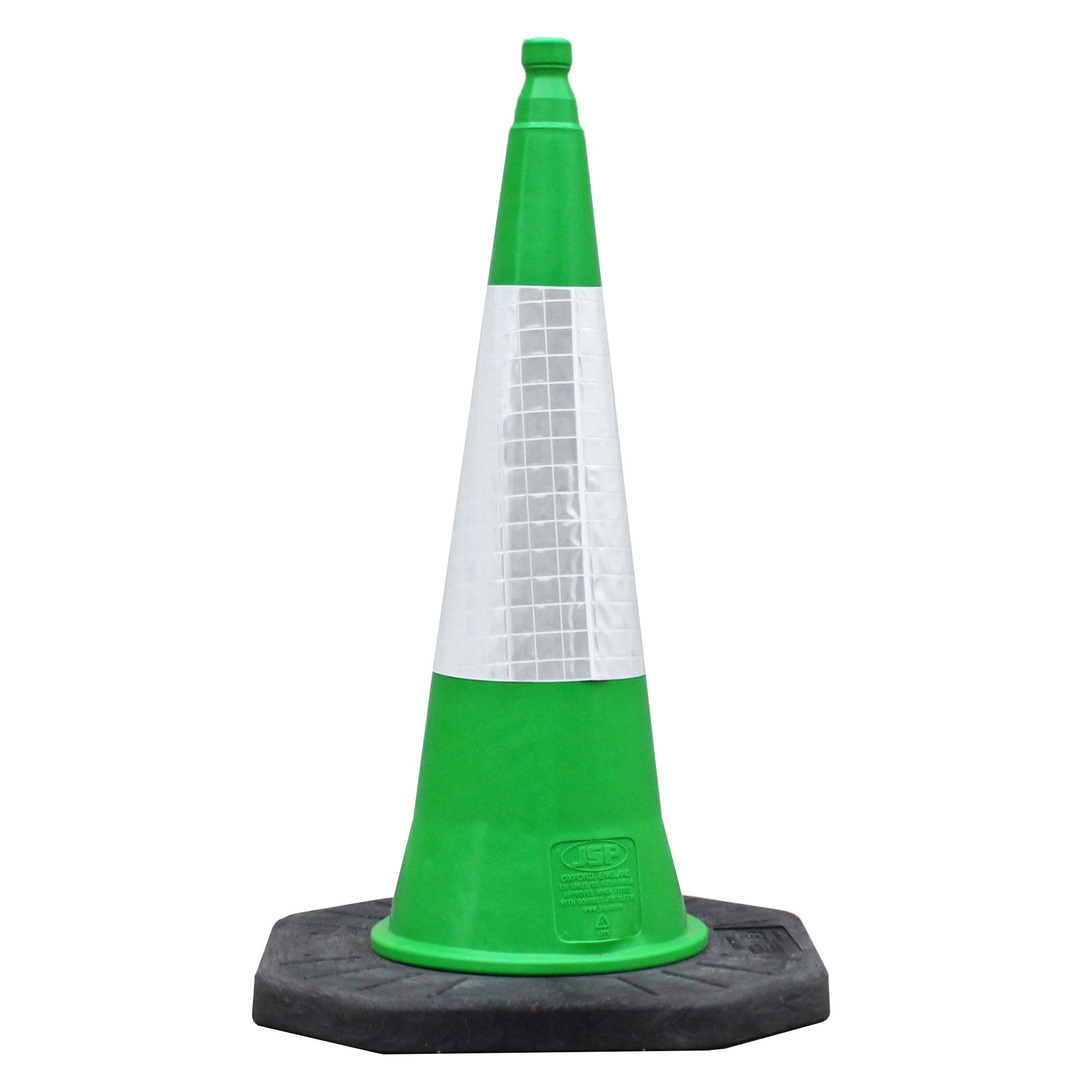Road_cone: (256, 34, 838, 1049)
